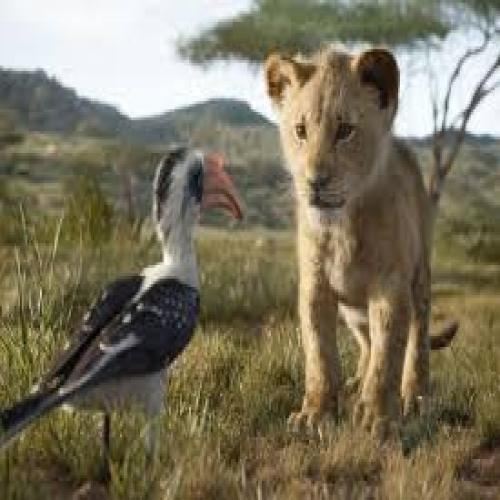lion-endangered: (263, 47, 458, 441)
